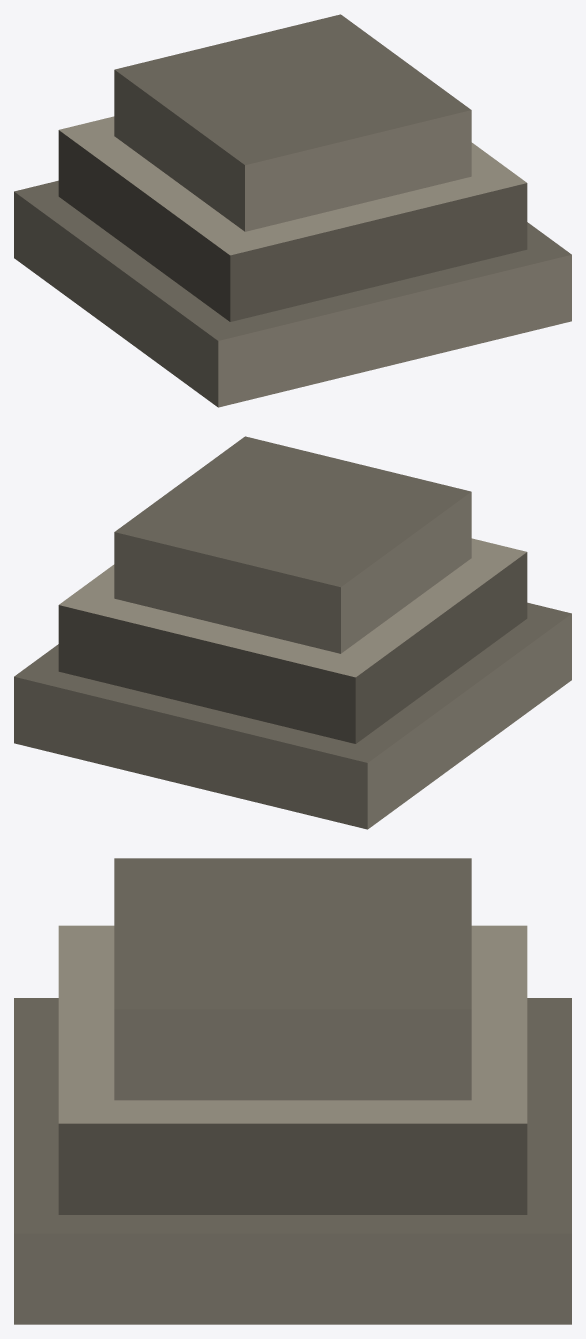
The model's file is terr_terrace.glb.
The picture shows the model from 3 angles, top to bottom: view 1: azimuth 30°, elevation 25°; view 2: azimuth 150°, elevation 25°; view 3: azimuth 270°, elevation 25°; orthographic projection. The views are drawn at different scales.
Visible parts, largest first — view 1: terr_terrace; view 2: terr_terrace; view 3: terr_terrace.
Part boxes in pixels (left/top/right/bottom): terr_terrace: left=14, top=14, right=571, bottom=407; terr_terrace: left=14, top=436, right=571, bottom=829; terr_terrace: left=14, top=858, right=571, bottom=1324.
Bounding box in the file's own units: 1 × 0.54 × 1.
1 material, 1 textured.
